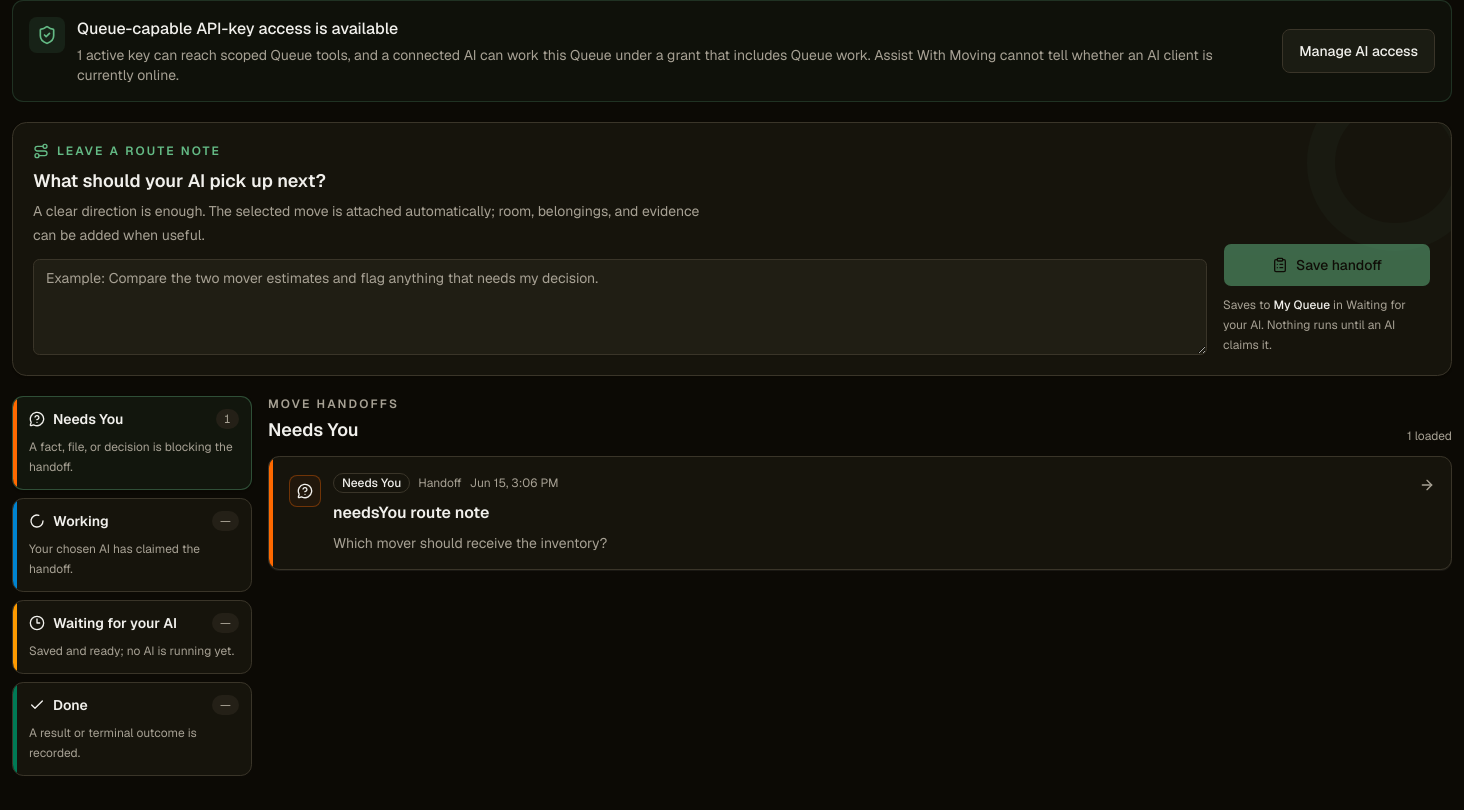
QueueDesk › states connection limits and that saving does not start work
The image size is (1464, 810).
Expected: the text "Queue-capable API-key access is available" is shown, x1=77 y1=18 x2=398 y2=39
Expected: the text "cannot tell whether an AI client is currently online" is shown, x1=77 y1=46 x2=1213 y2=84
Type "Check the packing list for missing room labels." into the text box labelled "What should your AI pick up next?". click: (620,307)
box: x1=33 y1=259 x2=1207 y2=355
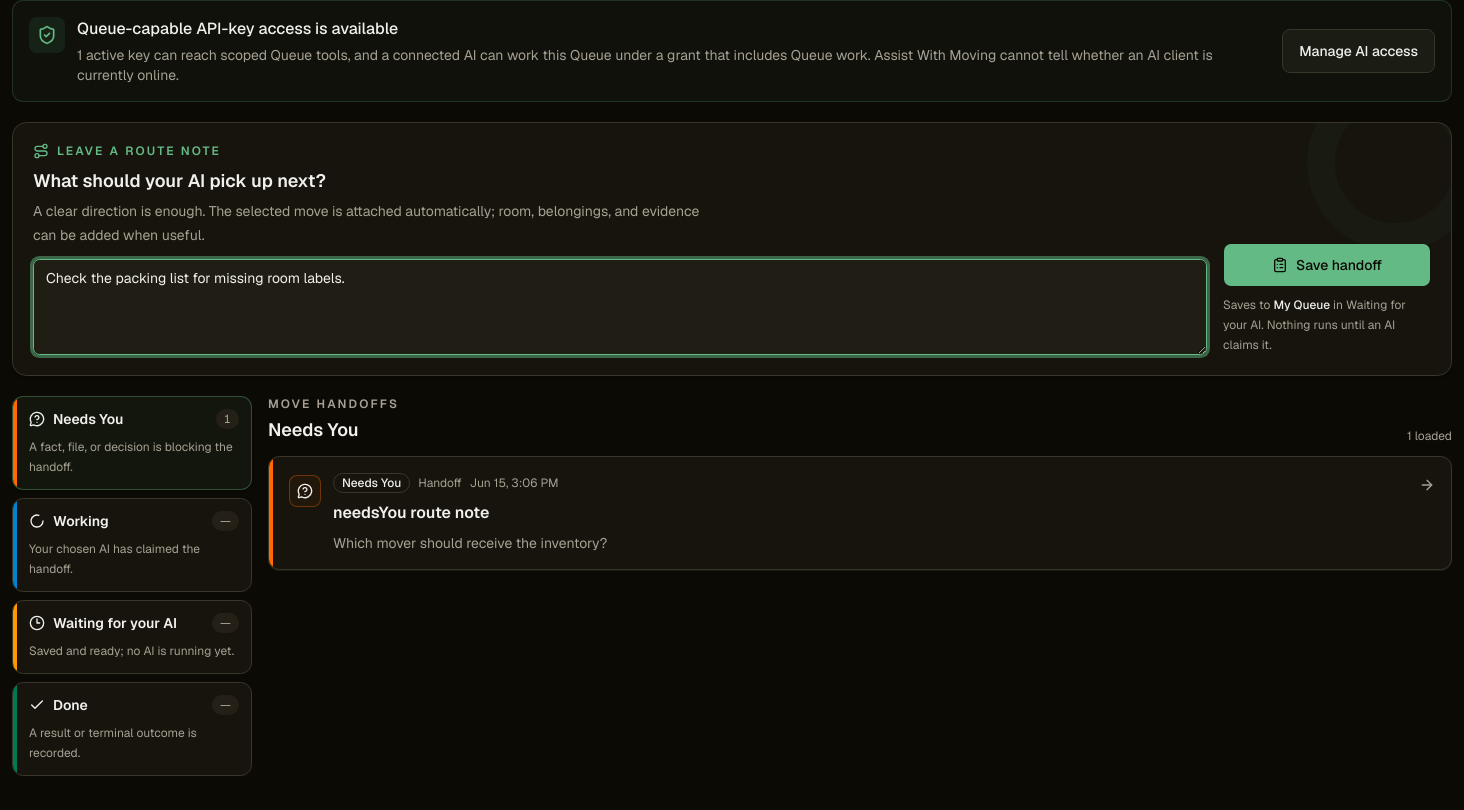
Click the button "Save handoff". click: (1327,265)
box: x1=1223 y1=243 x2=1431 y2=287
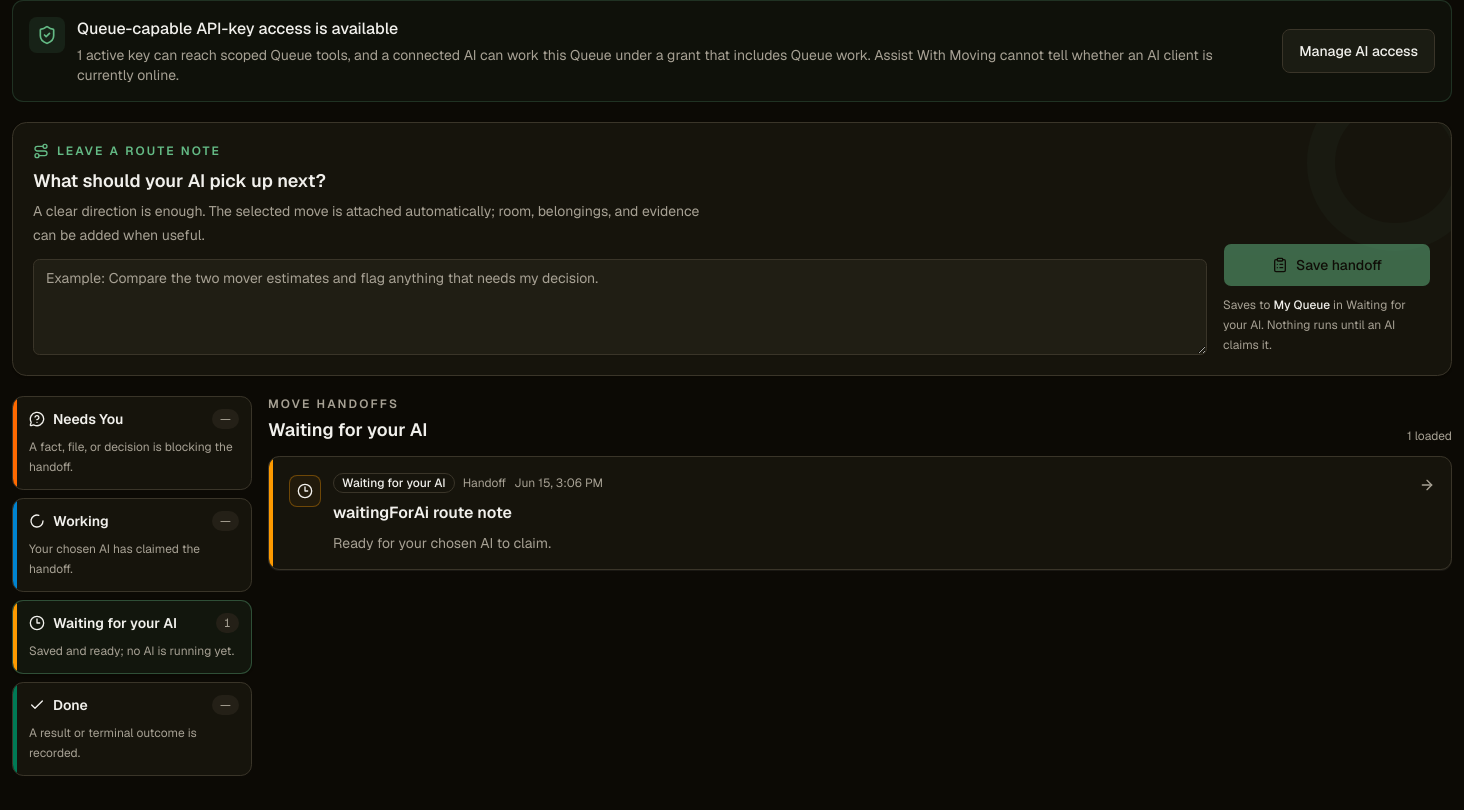
Now the heading "Waiting for your AI" is shown, box x1=268 y1=416 x2=427 y2=444
